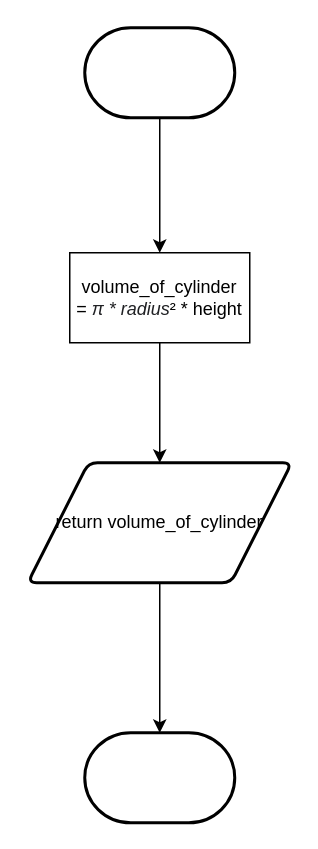
Image size: 318x849. Some labels were removed from this diagram. Here are the shapes that lost their labels. From the top down, the box of each, then its label:
(82, 26, 236, 118): Start
(82, 730, 236, 824): Stop
